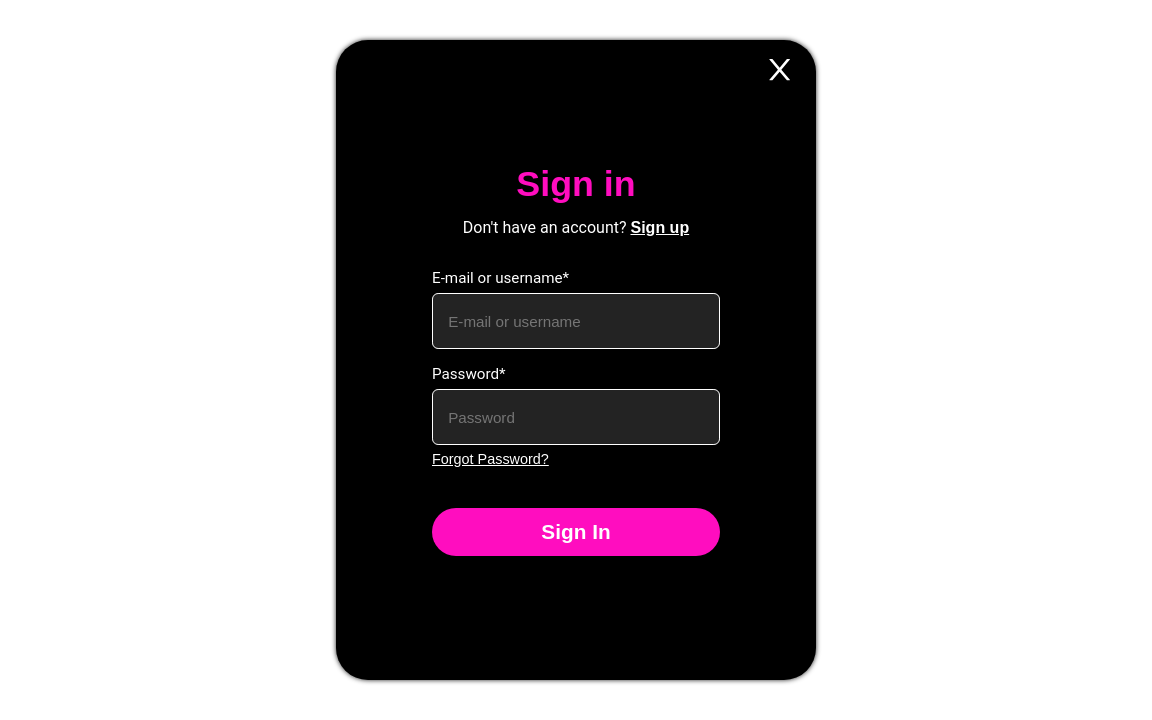
Test: form tests › empty form, expect login, password field errors
The width and height of the screenshot is (1152, 720).
Click the button with test id "submit_button" at (576, 532), box [432, 508, 720, 556]
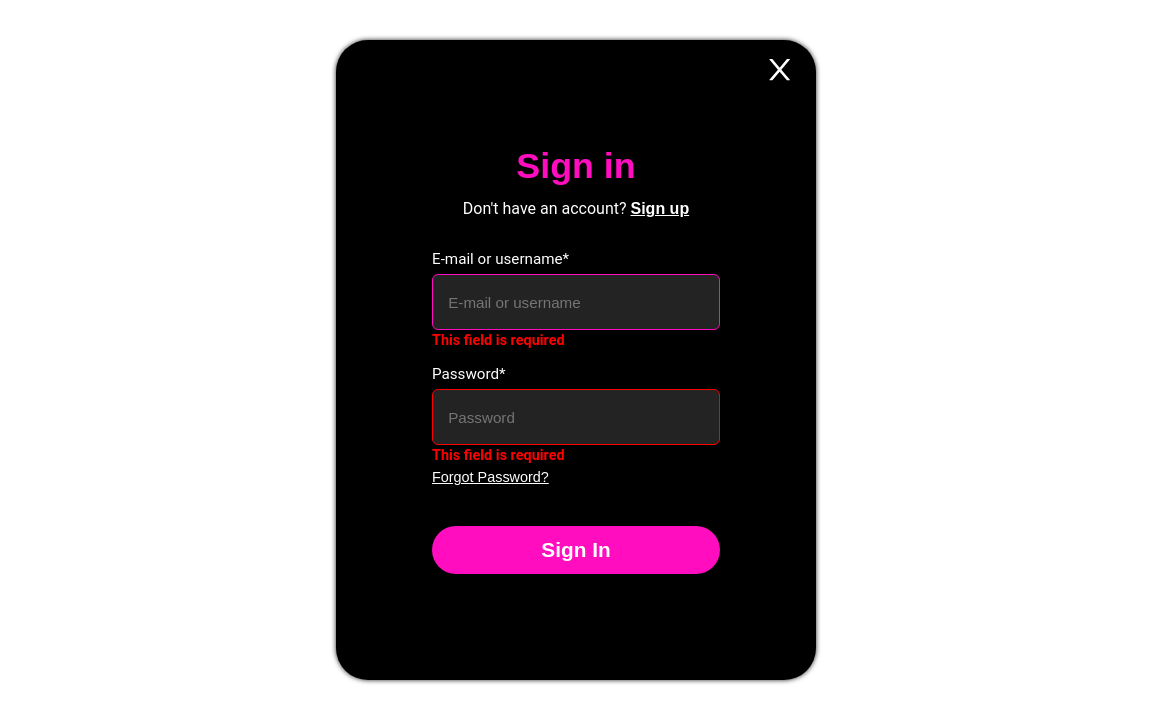
Expected: the text with test id "error" below "E-mail or username" reads "This field is required", [432, 332, 564, 349]
Expected: the 2nd text with test id "error" reads "This field is required", [432, 447, 564, 464]
